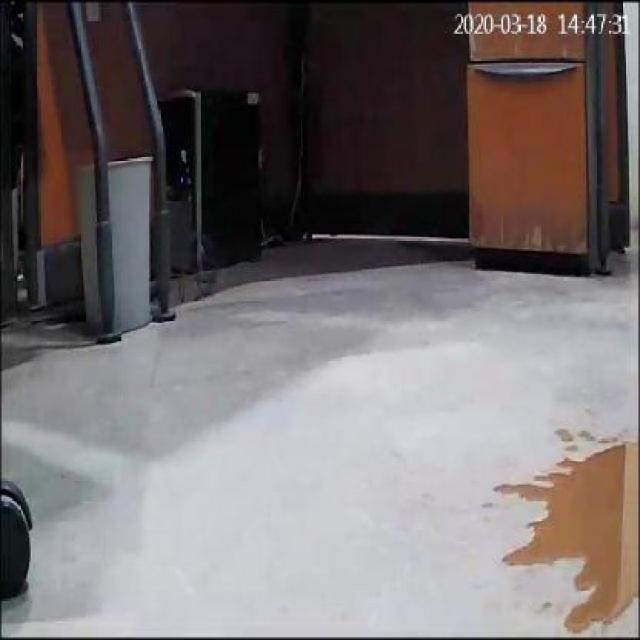spill: (488, 442, 638, 633)
